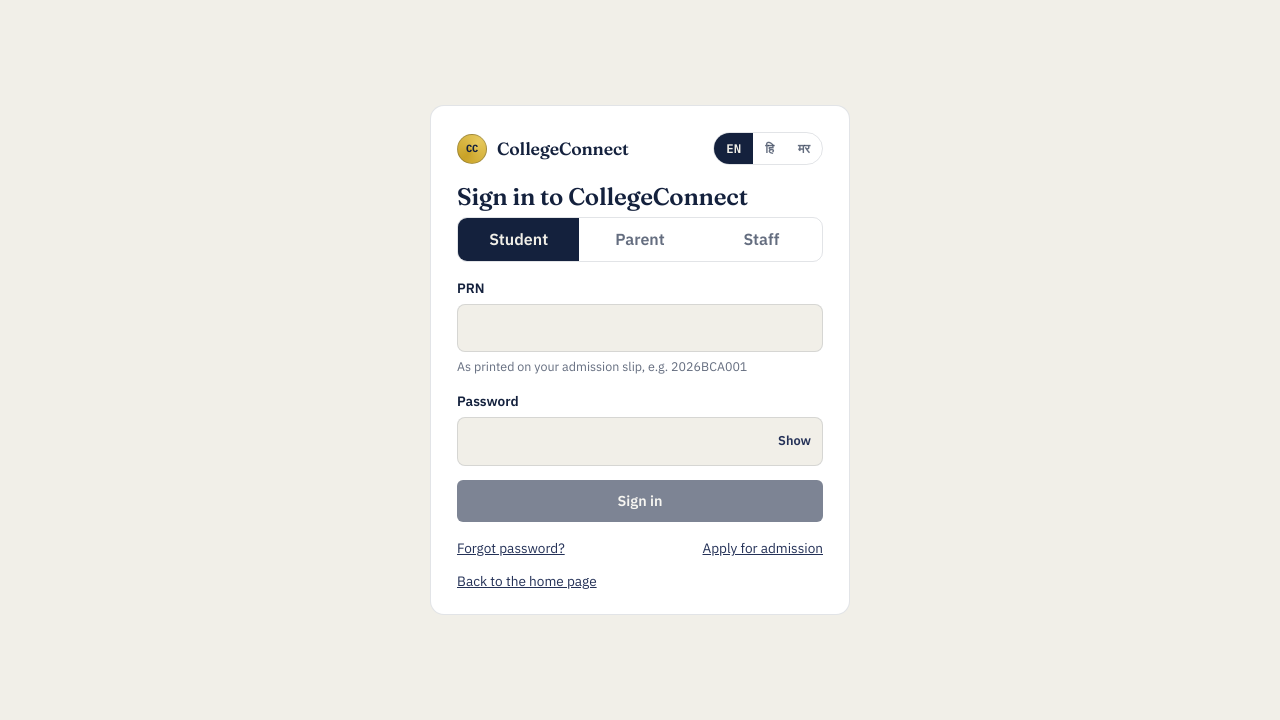
parents › sign in with a mobile number and a code sent by email
Step 1. Click the tab "Parent" → (640,239), box left=579, top=218, right=701, bottom=261
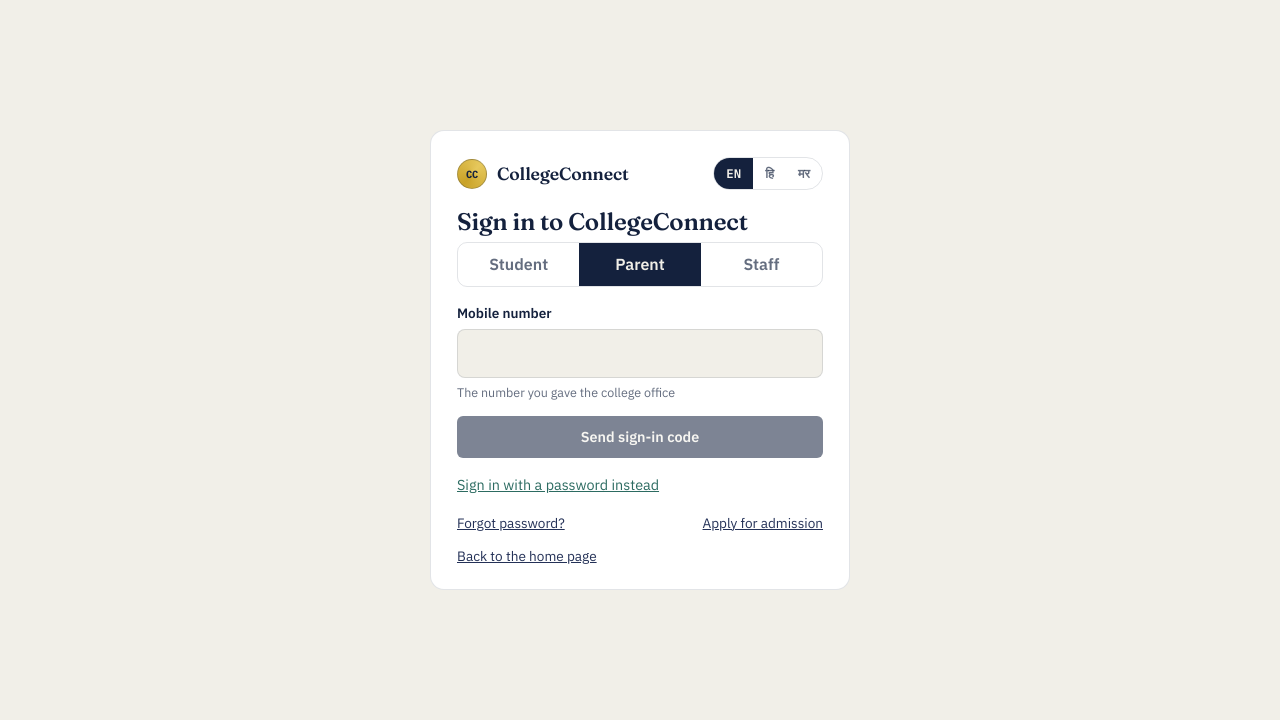
Step 2. Type "98765 00001" into the field labelled "Mobile number" → (640,353), box left=457, top=329, right=823, bottom=378
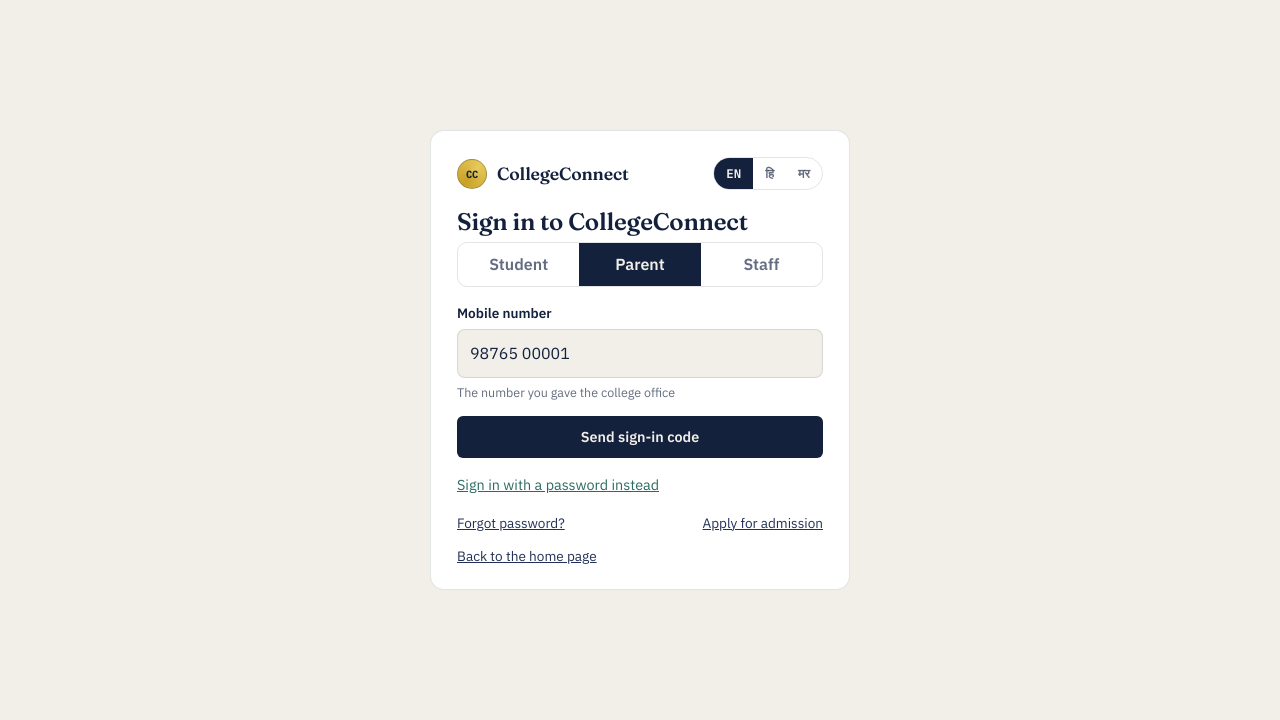
Step 3. Click the button "Send sign-in code" → (640,437), box left=457, top=416, right=823, bottom=458
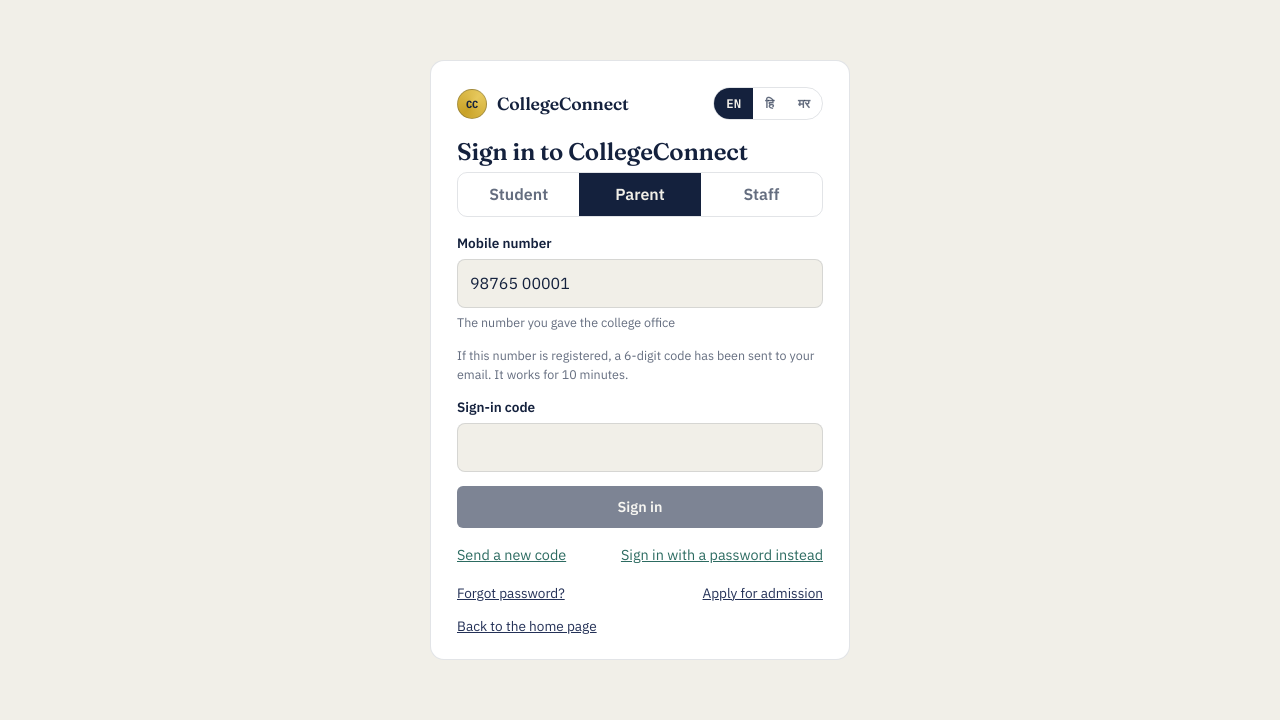
Step 4. Type "123456" into the field labelled "Sign-in code" → (640,448), box left=457, top=423, right=823, bottom=472
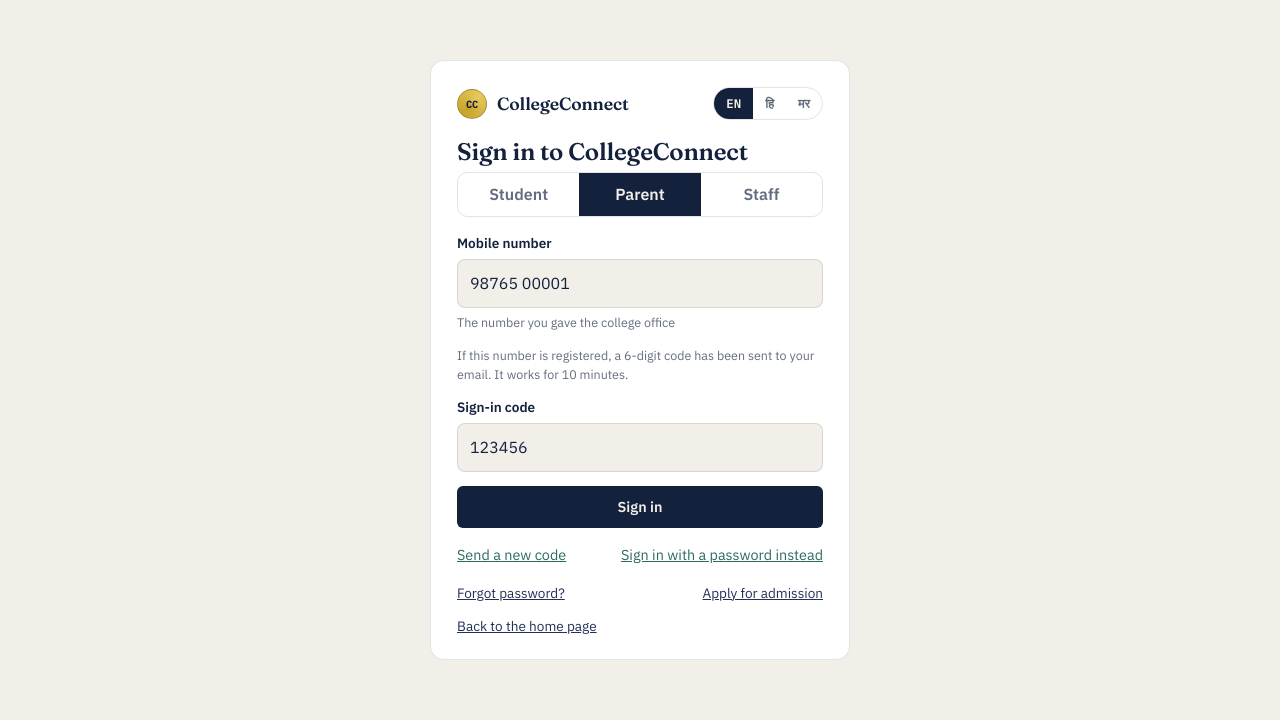
Step 5. Click the button "Sign in" → (640,507), box left=457, top=486, right=823, bottom=528
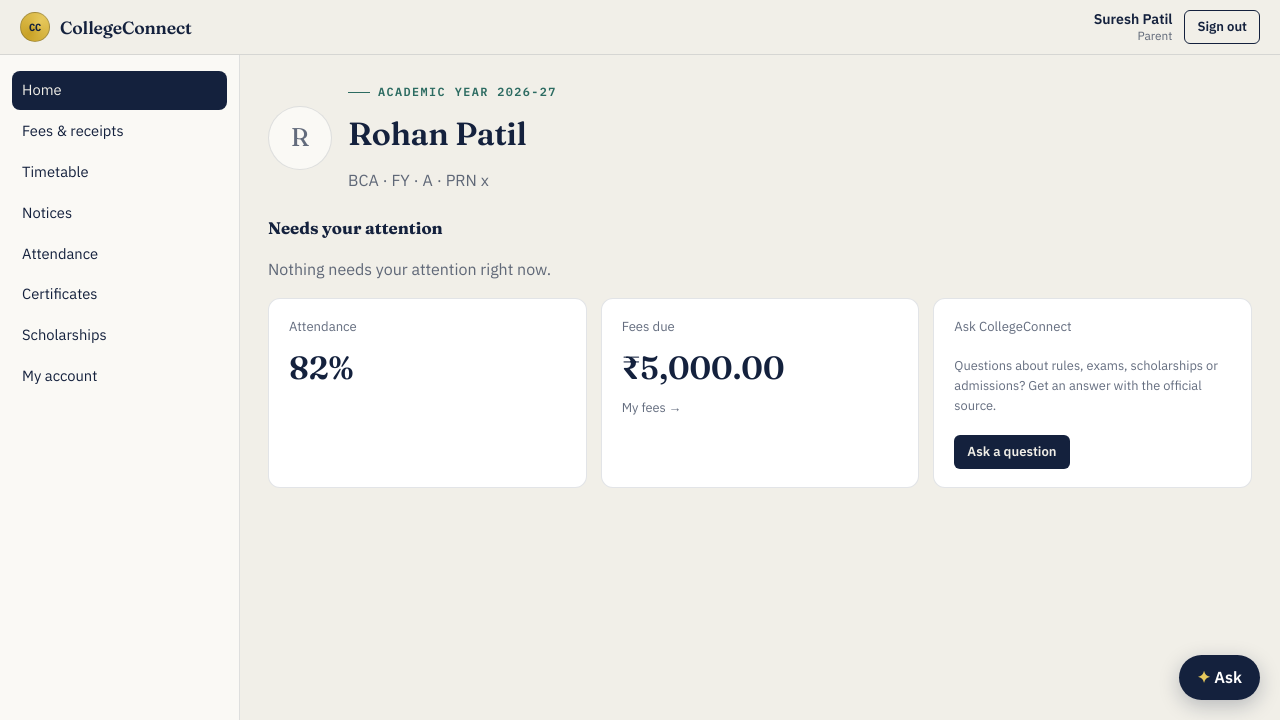
Check: the heading "Rohan Patil" is shown, box left=348, top=116, right=557, bottom=152
